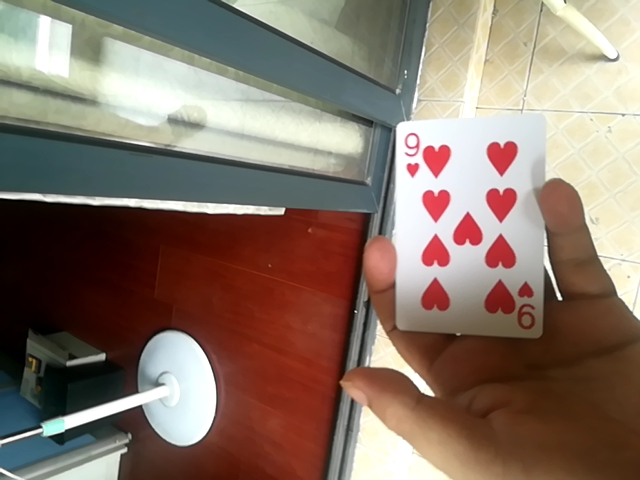hx 9: (386, 114, 547, 337)
